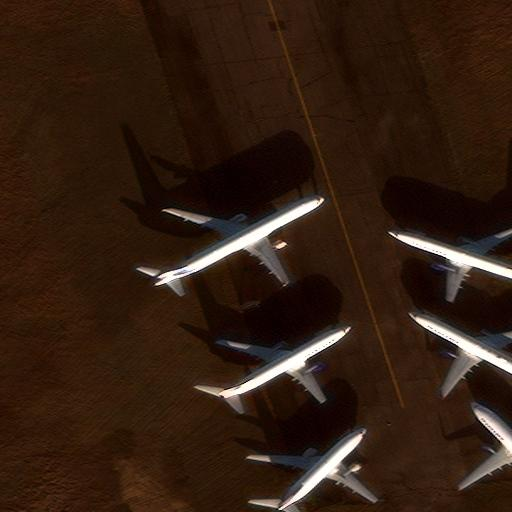Medium Civil Transport: (152, 198, 324, 286), (250, 427, 378, 511), (221, 325, 351, 400), (387, 225, 512, 300), (408, 313, 512, 387), (458, 401, 512, 491)
